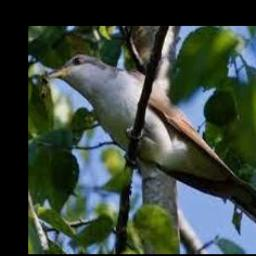Cuckoo: (49, 53, 256, 246)
